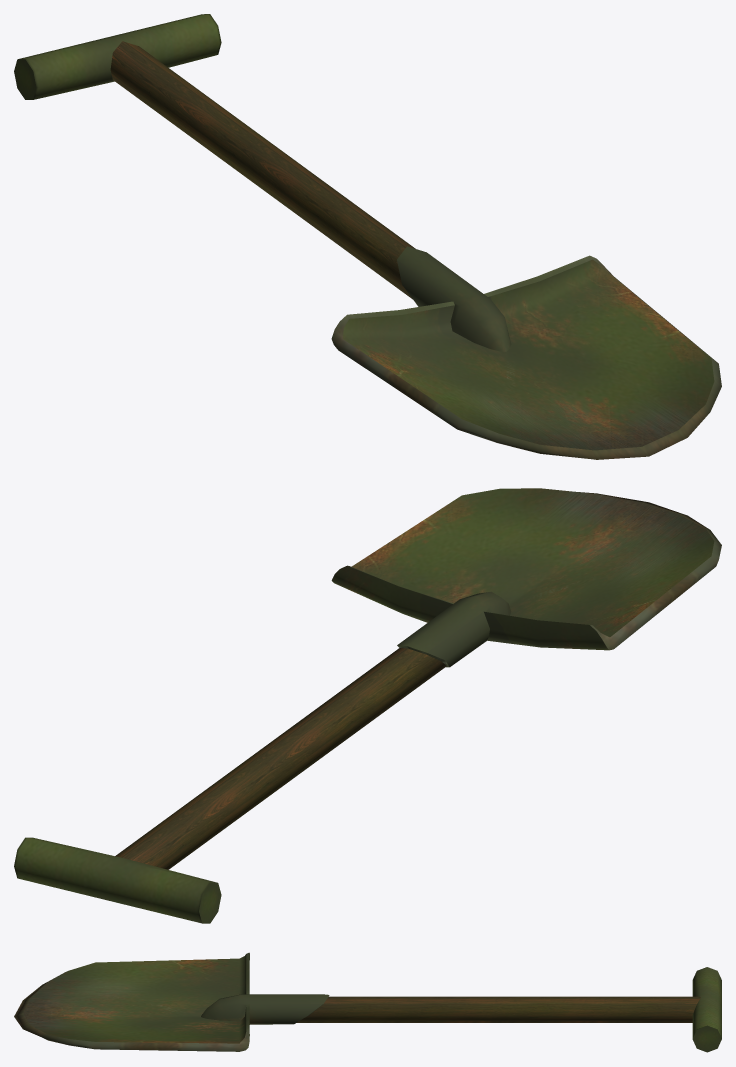
The model's file is shovel.FBX.
The picture shows the model from 3 angles, top to bottom: view 1: azimuth 30°, elevation 25°; view 2: azimuth 150°, elevation 25°; view 3: azimuth 270°, elevation 25°; orthographic projection. The views are drawn at different scales.
Visible parts, largest first — view 1: shovel; view 2: shovel; view 3: shovel.
Boxes of the visible parts, left/top/right/bottom form: shovel: left=14, top=14, right=721, bottom=459; shovel: left=14, top=488, right=721, bottom=923; shovel: left=14, top=952, right=721, bottom=1052.
Bounding box in the file's own units: 2255 × 7688 × 401.
1 material, 1 textured.
